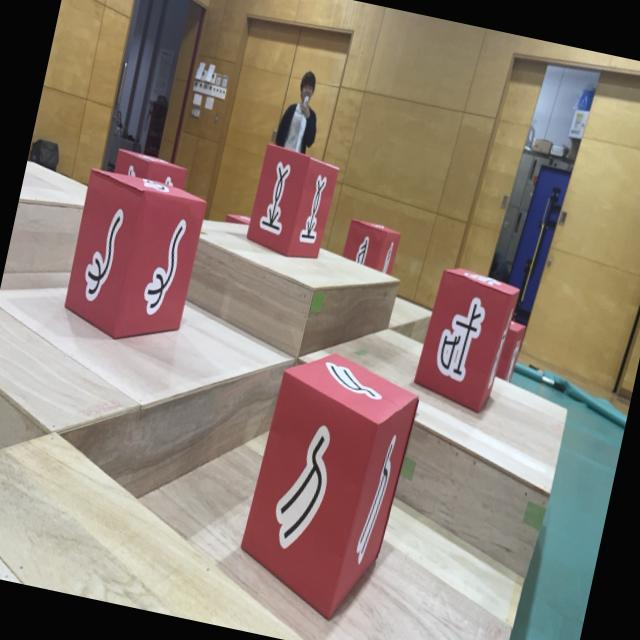10: (266, 416, 340, 558), (352, 431, 398, 568), (320, 361, 387, 404)
11: (354, 234, 370, 265), (382, 240, 394, 274)
13: (138, 212, 188, 318), (80, 202, 126, 308)
5: (431, 289, 489, 386)
7: (256, 158, 296, 237), (297, 172, 330, 246)
fighter: (228, 341, 425, 628), (57, 166, 209, 353), (409, 262, 521, 417), (244, 143, 342, 264), (340, 217, 402, 276), (112, 147, 190, 190), (494, 317, 527, 384), (224, 210, 251, 228)
